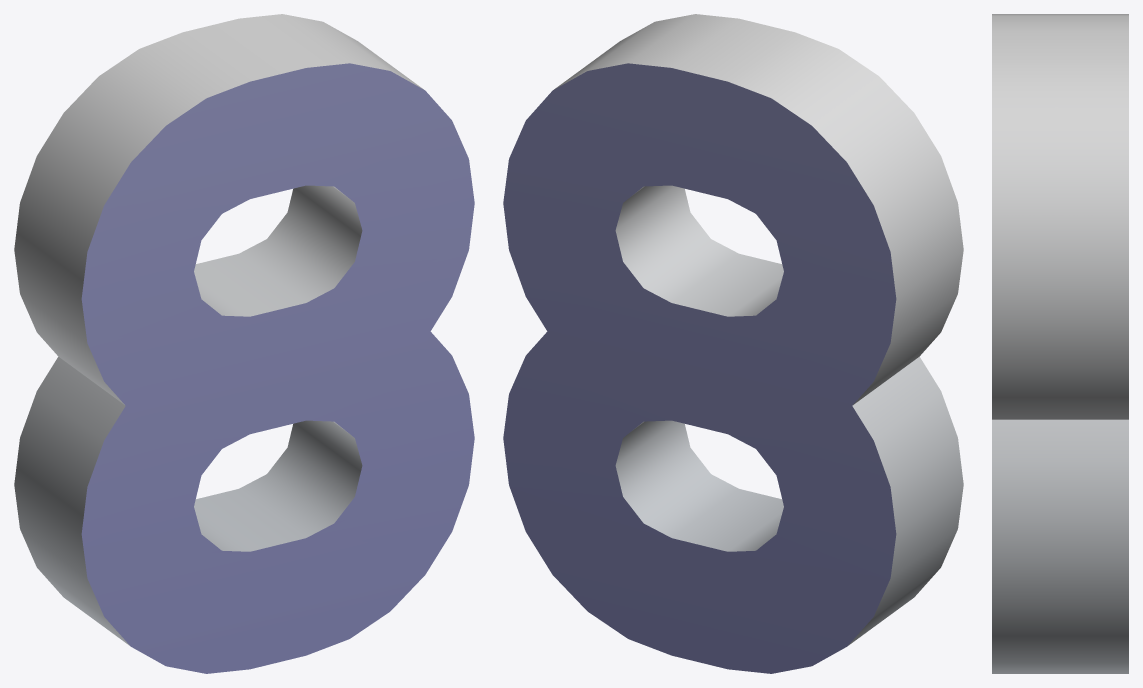
File: number-8.glb
3 views of the same model, side by side, from view 1: azimuth 30°, elevation 25°; view 2: azimuth 150°, elevation 25°; view 3: azimuth 270°, elevation 25° (orthographic).
Visible parts, largest first — view 1: number-8; view 2: number-8; view 3: number-8.
Boxes of the visible parts, left/top/right/bottom form: number-8: left=14, top=14, right=474, bottom=673; number-8: left=503, top=14, right=963, bottom=673; number-8: left=992, top=14, right=1128, bottom=673.
Bounding box in the file's own units: 0.35 × 0.5 × 0.1039.
